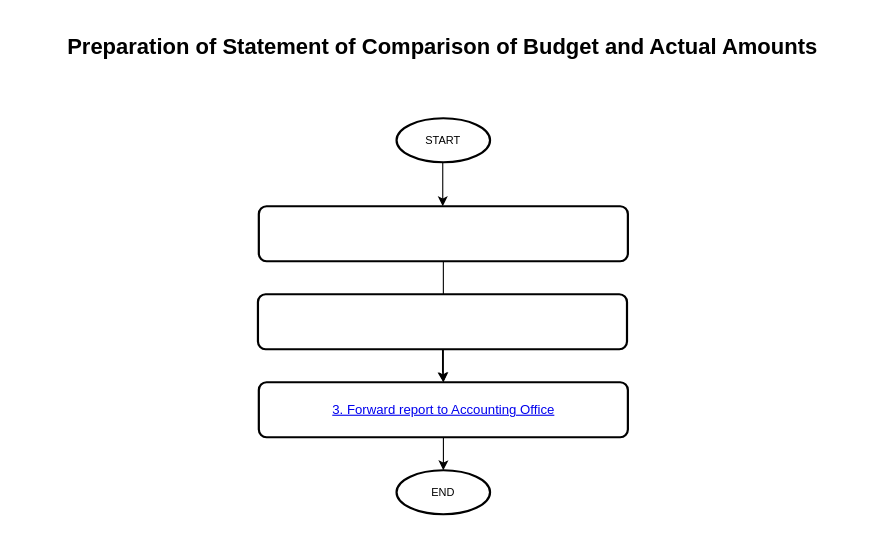
The diagram is 884 pixels wide and 534 high, and some of its shapes have lost their labels. Each missing label, with the centre of its shape:
1. Prepare SCBAA (Statement of Comparison of Budget and Actual Amounts: pixel 442 233
2. Review and approval of SCBAA: pixel 442 321
